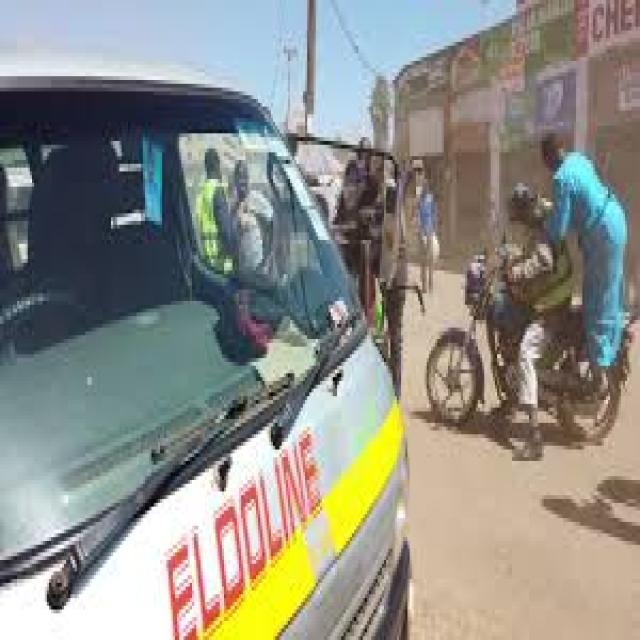bodaboda: (435, 241, 625, 474)
matatu: (0, 30, 420, 636)
